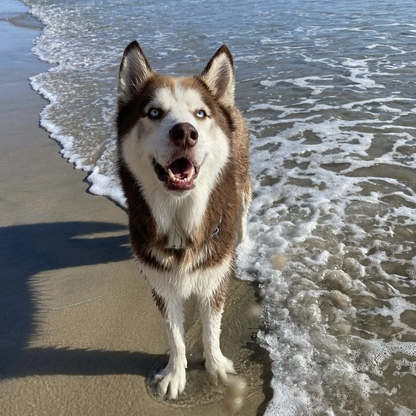husky: (109, 36, 264, 399)
